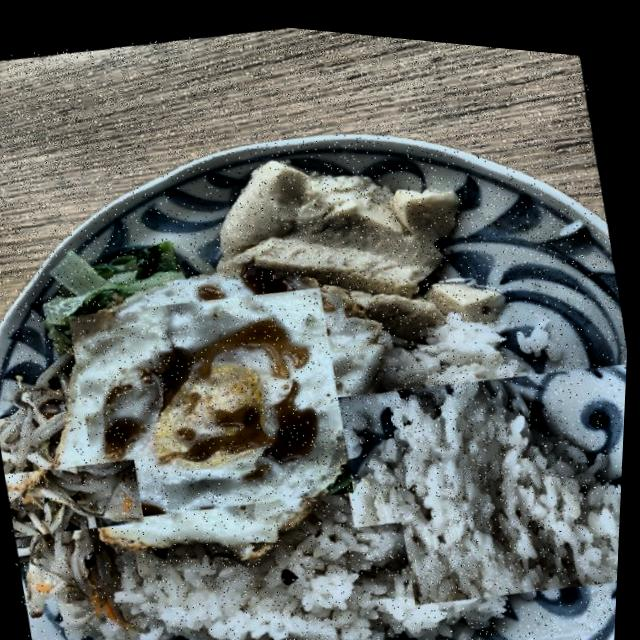Food: (342, 313, 630, 637), (61, 259, 365, 539), (124, 492, 428, 640), (0, 418, 125, 576)
